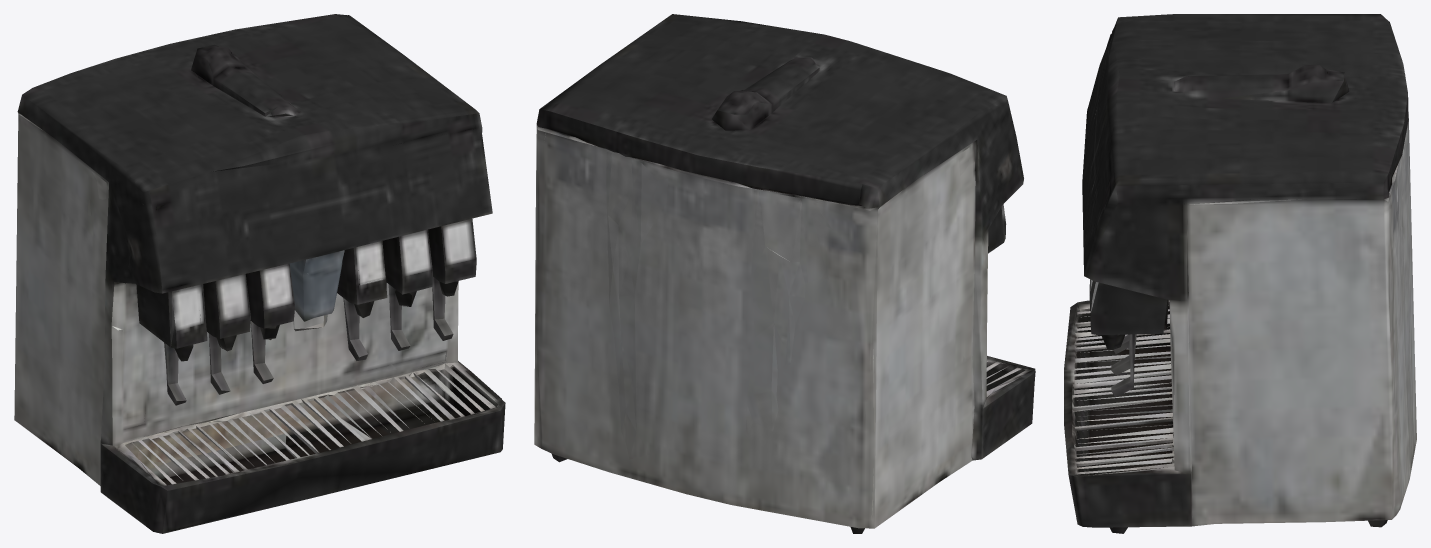
File: p7-soda-fountain.glb
3 views of the same model, side by side, from view 1: azimuth 30°, elevation 25°; view 2: azimuth 150°, elevation 25°; view 3: azimuth 270°, elevation 25° (orthographic). The views are drawn at different scales.
Parts seen in each view (by area): view 1: p7-soda-fountain; view 2: p7-soda-fountain; view 3: p7-soda-fountain.
Part boxes in pixels (<box>): p7-soda-fountain: <box>14,14,505,533</box>; p7-soda-fountain: <box>534,14,1035,533</box>; p7-soda-fountain: <box>1064,14,1416,533</box>.
Bounding box in the file's own units: 0.8368 × 0.85 × 0.7.
Materials: 1 (1 with a texture image).
